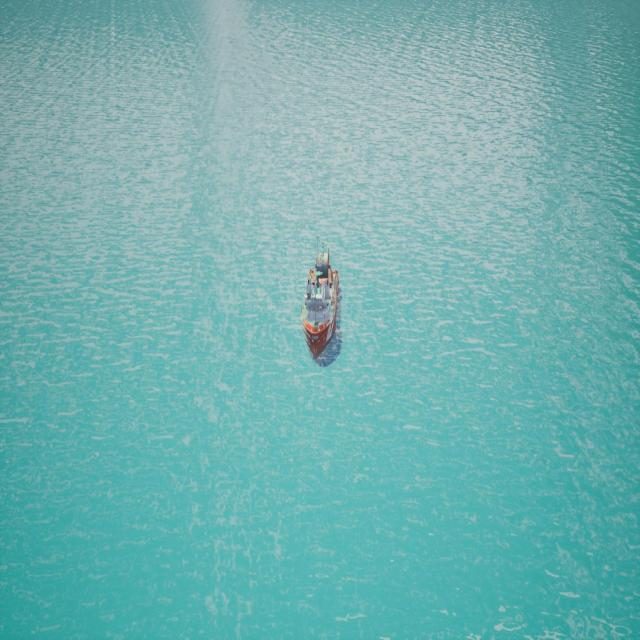tug boat: (301, 249, 341, 368)
